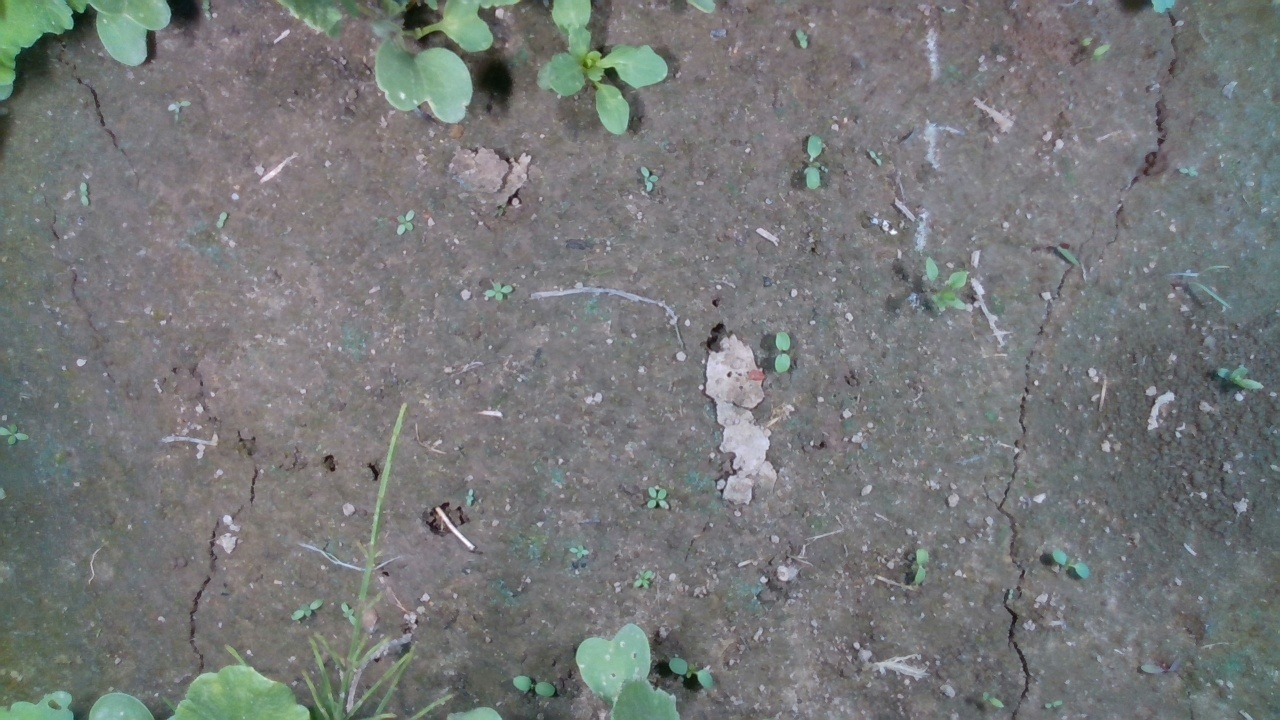weed: (667, 656, 713, 688), (1051, 547, 1091, 581), (510, 674, 556, 698), (804, 133, 822, 191), (290, 598, 324, 622), (773, 329, 791, 374), (482, 280, 513, 302), (646, 485, 671, 512), (640, 164, 659, 196), (394, 209, 416, 236), (914, 547, 929, 586), (981, 690, 1005, 710), (77, 180, 91, 209), (166, 99, 192, 112), (795, 26, 808, 50), (568, 544, 590, 558), (867, 148, 882, 166), (216, 211, 229, 231), (1043, 699, 1063, 709)
